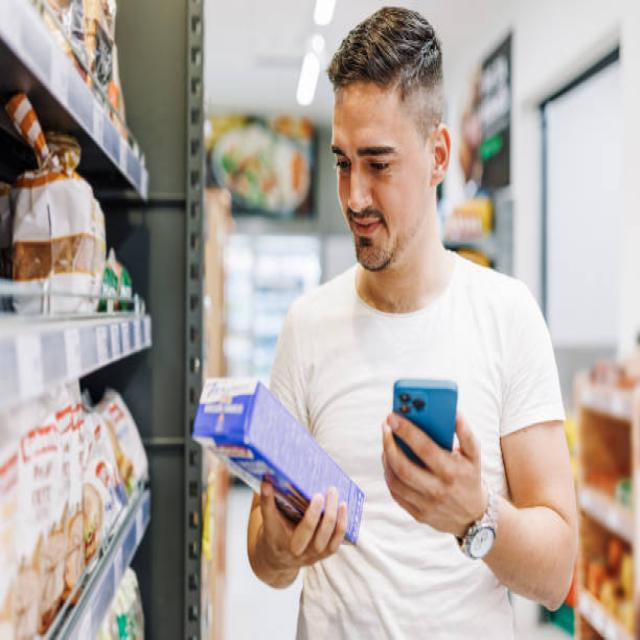article: (195, 379, 363, 543)
hands: (380, 410, 488, 540), (247, 481, 346, 587)
person: (248, 7, 577, 639)
